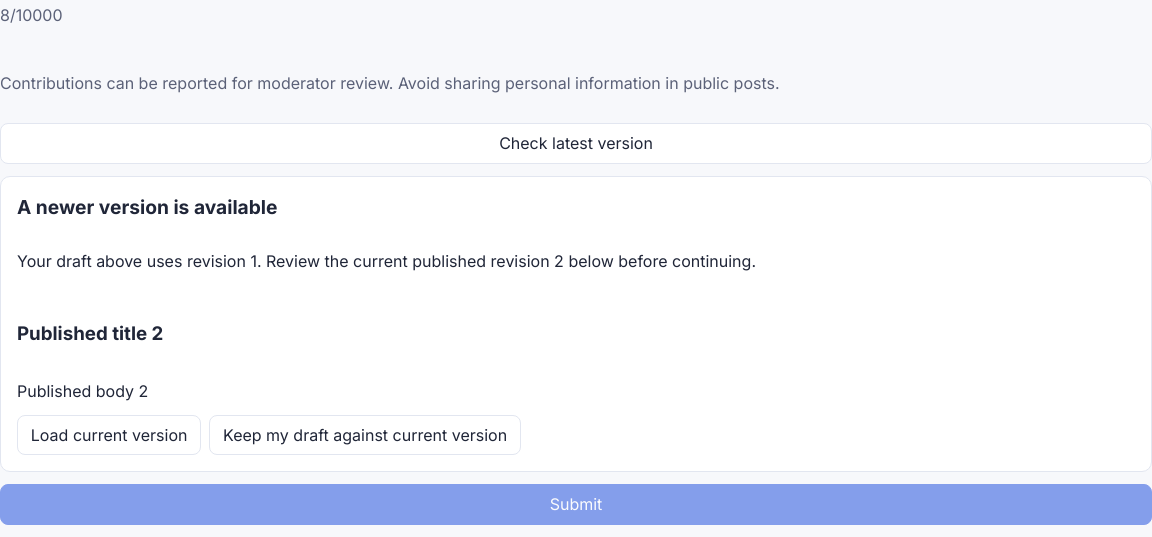
Scenario: preserves the original draft revision through refetch and requires an explicit conflict choice
(page scrolled)
expect the element named "Compare versions" is shown: met, box [0,176,1151,472]
expect the button "Submit" is disabled: met, box [0,484,1151,525]
What coordinates should you click on to do the following:
click the button "Keep my draft against current version"
I would click on:
 (365, 435)
Its box is [209,415,521,455].
(page scrolled)
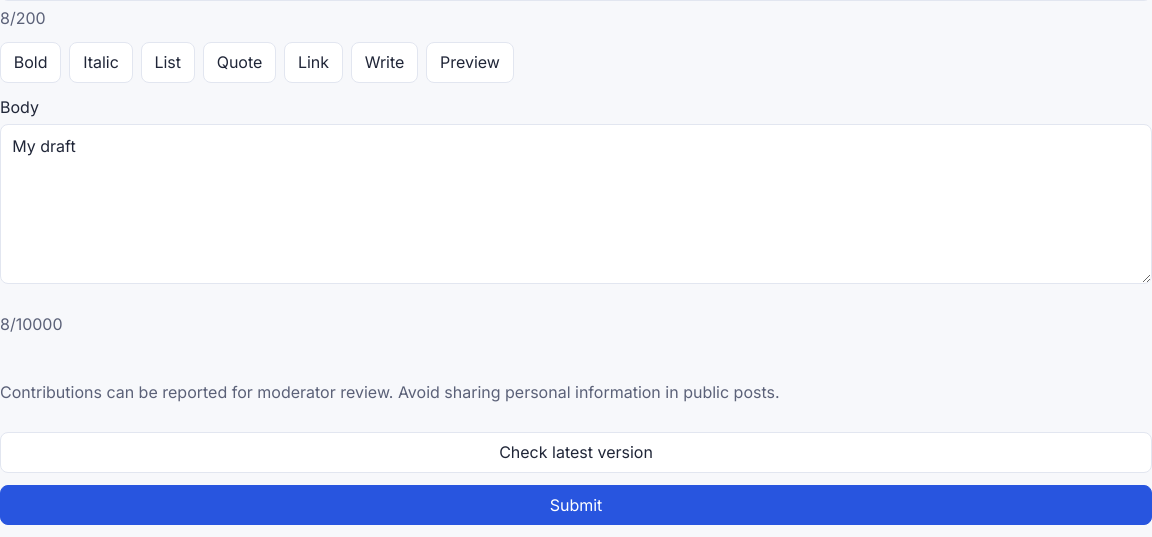
What coordinates should you click on to do the following:
click the button "Submit"
I would click on:
 (576, 505)
Its box is [0,484,1151,525].
(page scrolled)
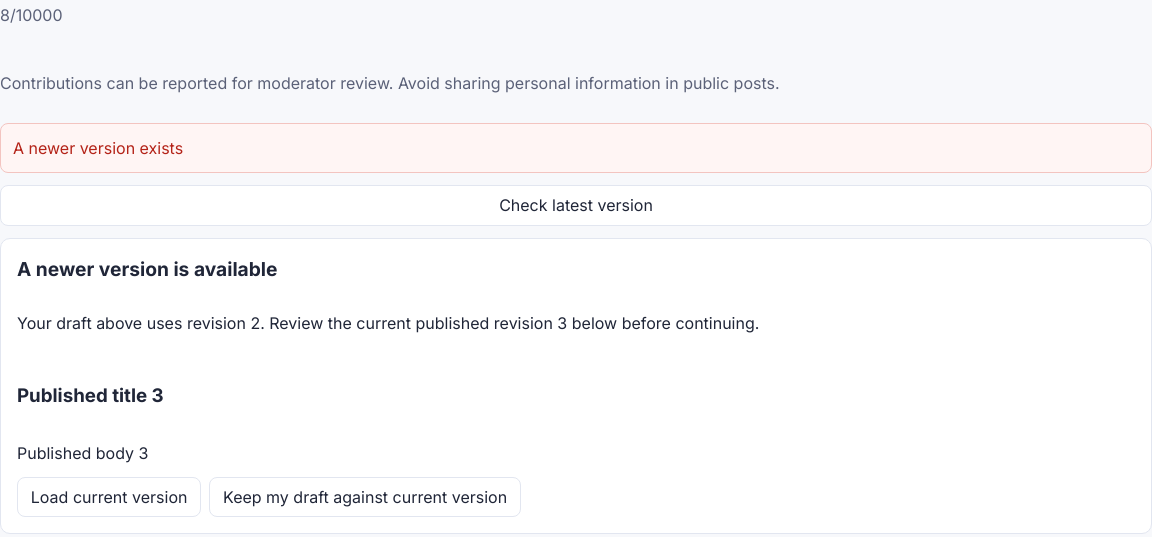
expect the text "Published body 3" is shown: met, box [17,443,148,463]
What coordinates should you click on to do the following:
click the button "Load current version"
I would click on:
 (109, 497)
Its box is [17,477,201,517].
(page scrolled)
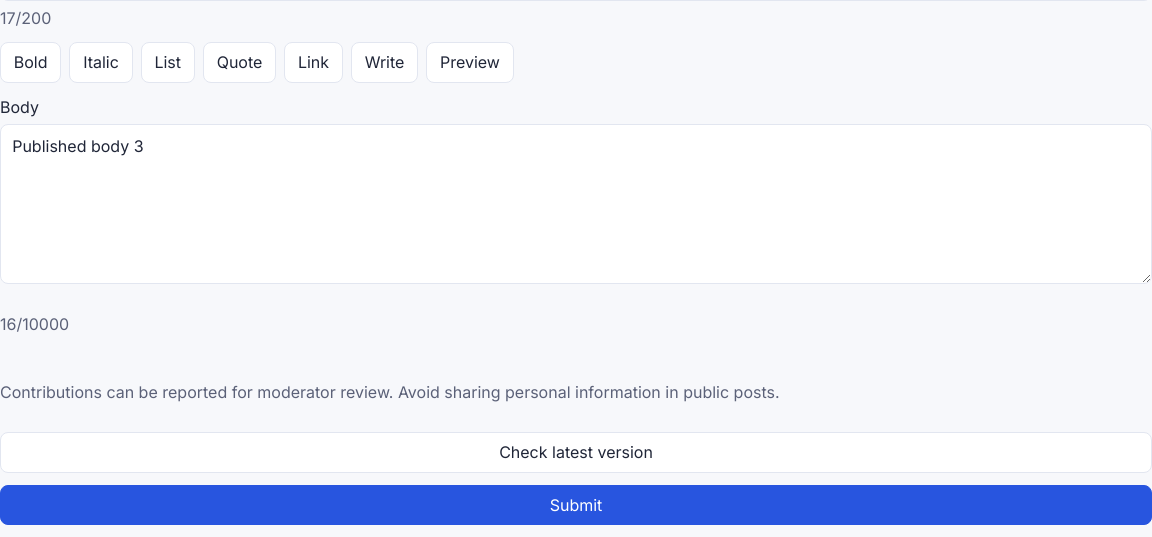
expect the text box labelled "Body" holds "Published body 3": met, box [0,124,1151,284]
